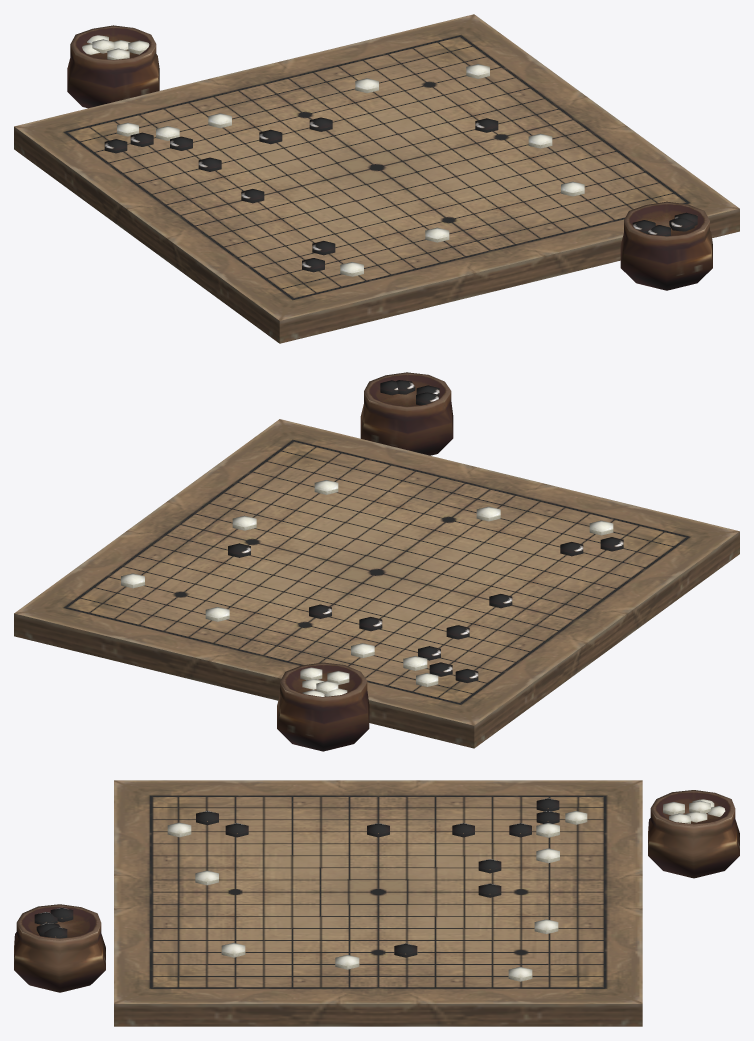
The model's file is wujian_yunmeng_14.FBX.
The picture shows the model from 3 angles, top to bottom: view 1: azimuth 30°, elevation 25°; view 2: azimuth 150°, elevation 25°; view 3: azimuth 270°, elevation 25°; orthographic projection.
Visible parts, largest first — view 1: Mesh_0136; view 2: Mesh_0136; view 3: Mesh_0136.
Part boxes in pixels (x1=…): Mesh_0136: x1=14, y1=14, x2=739, y2=343; Mesh_0136: x1=14, y1=372, x2=739, y2=751; Mesh_0136: x1=14, y1=780, x2=739, y2=1026.
Size of the model in its own units: 57.78 by 6.99 by 79.33.
